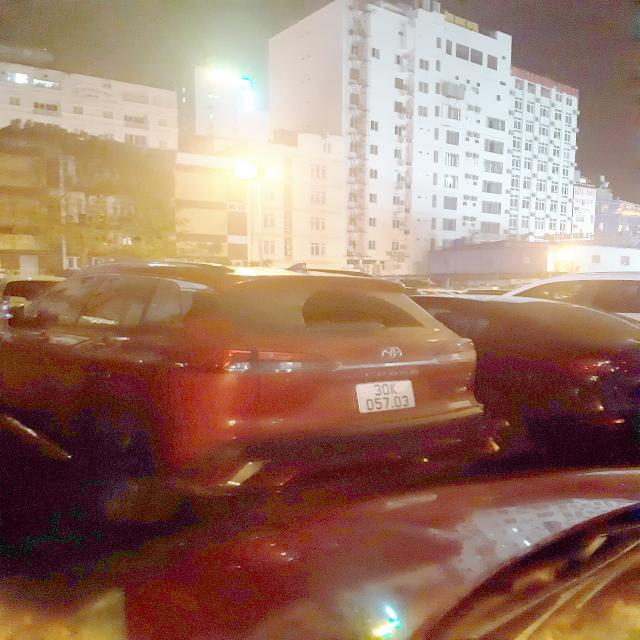license_plate: (352, 377, 420, 417)
